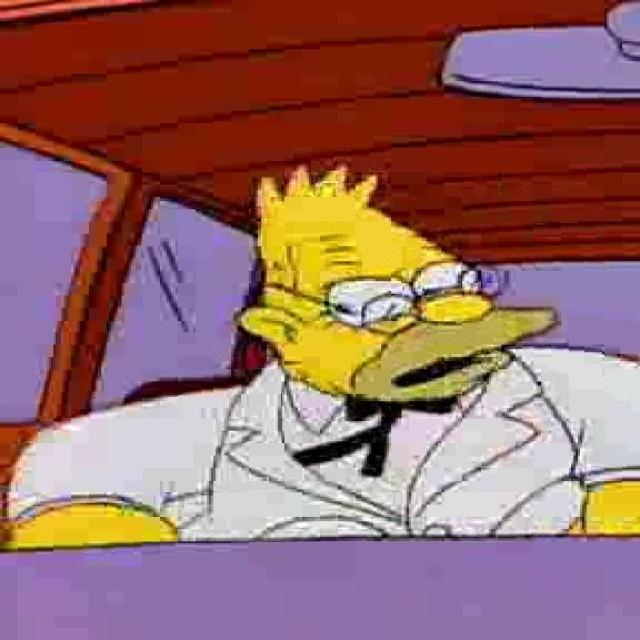Abraham Grampa Simpson: (231, 161, 565, 405)
